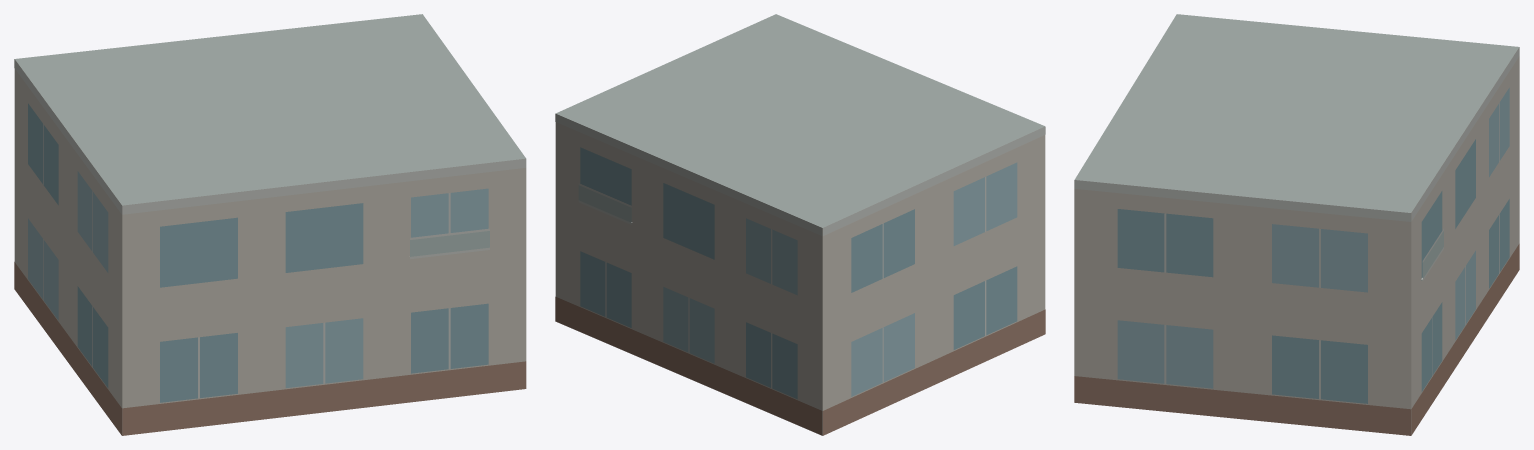
The model's file is survey-upis-32782528.glb.
3 renders of one model, left to right at view 1: azimuth 30°, elevation 25°; view 2: azimuth 150°, elevation 25°; view 3: azimuth 270°, elevation 25°, orthographic. The views are drawn at different scales.
Visible parts, largest first — view 1: survey-upis-32782528.tmp; view 2: survey-upis-32782528.tmp; view 3: survey-upis-32782528.tmp.
Boxes of the visible parts, box(x1,y1,x2,y2) form: survey-upis-32782528.tmp: box(14, 14, 526, 435); survey-upis-32782528.tmp: box(555, 14, 1045, 435); survey-upis-32782528.tmp: box(1074, 14, 1519, 435).
Bounding box in the file's own units: 11.7 × 6.1 × 11.06.
